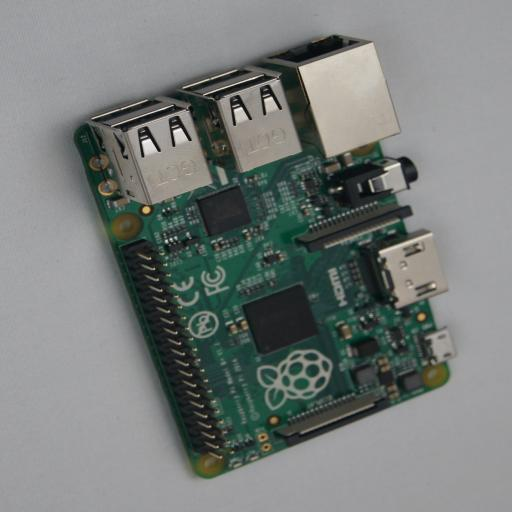Raspberry Pi 1 B-: (64, 34, 450, 478)
